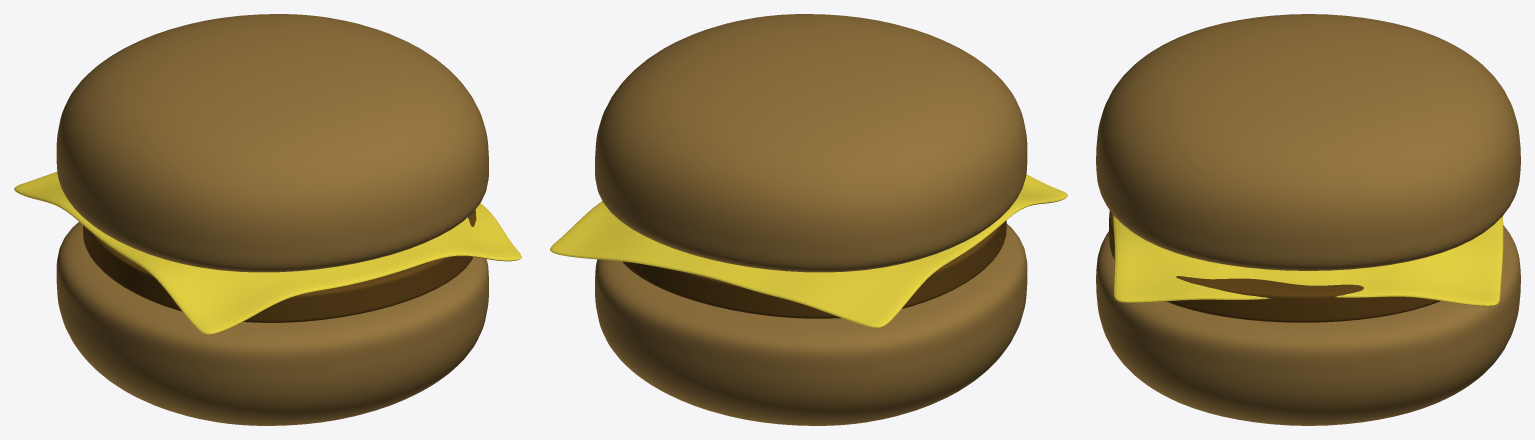
Rendered from Hamburger.gltf.
3 renders of one model, left to right at view 1: azimuth 30°, elevation 25°; view 2: azimuth 150°, elevation 25°; view 3: azimuth 270°, elevation 25°, orthographic.
Visible parts, largest first — view 1: Top Bun, Bottom Bun, Cheese, Patty; view 2: Top Bun, Bottom Bun, Cheese, Patty; view 3: Top Bun, Bottom Bun, Cheese, Patty.
Boxes of the visible parts, bbox=[...] form: Top Bun: bbox=[56, 14, 488, 272]; Bottom Bun: bbox=[56, 222, 488, 425]; Cheese: bbox=[14, 171, 521, 334]; Patty: bbox=[83, 210, 476, 322]; Top Bun: bbox=[595, 14, 1027, 272]; Bottom Bun: bbox=[595, 223, 1027, 425]; Cheese: bbox=[550, 174, 1067, 328]; Patty: bbox=[622, 220, 1006, 318]; Top Bun: bbox=[1096, 14, 1520, 270]; Bottom Bun: bbox=[1096, 225, 1520, 425]; Cheese: bbox=[1113, 215, 1503, 306]; Patty: bbox=[1109, 210, 1440, 322].
Size of the model in its own units: 9.17 by 7.6 by 9.17.
